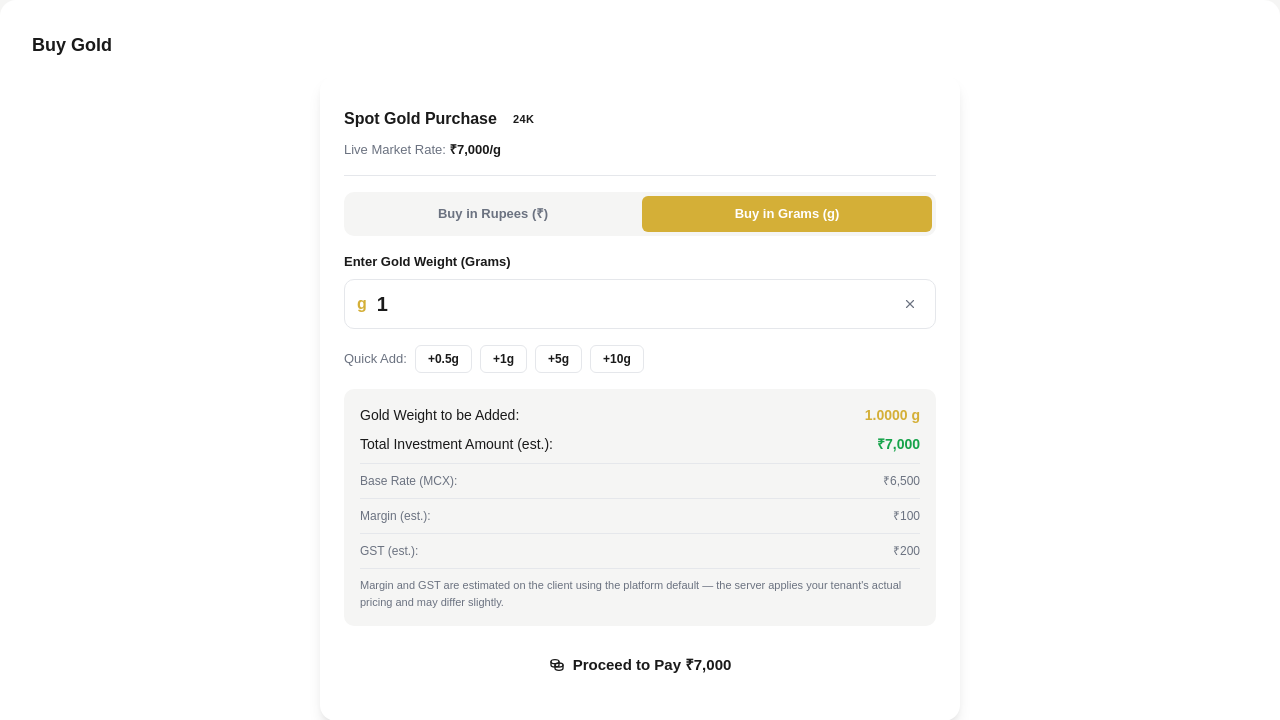
Test case: BuyGold › entering an amount › clears the weight
Click the button named "Clear gold weight": (910, 304) 897,296 -> 923,312
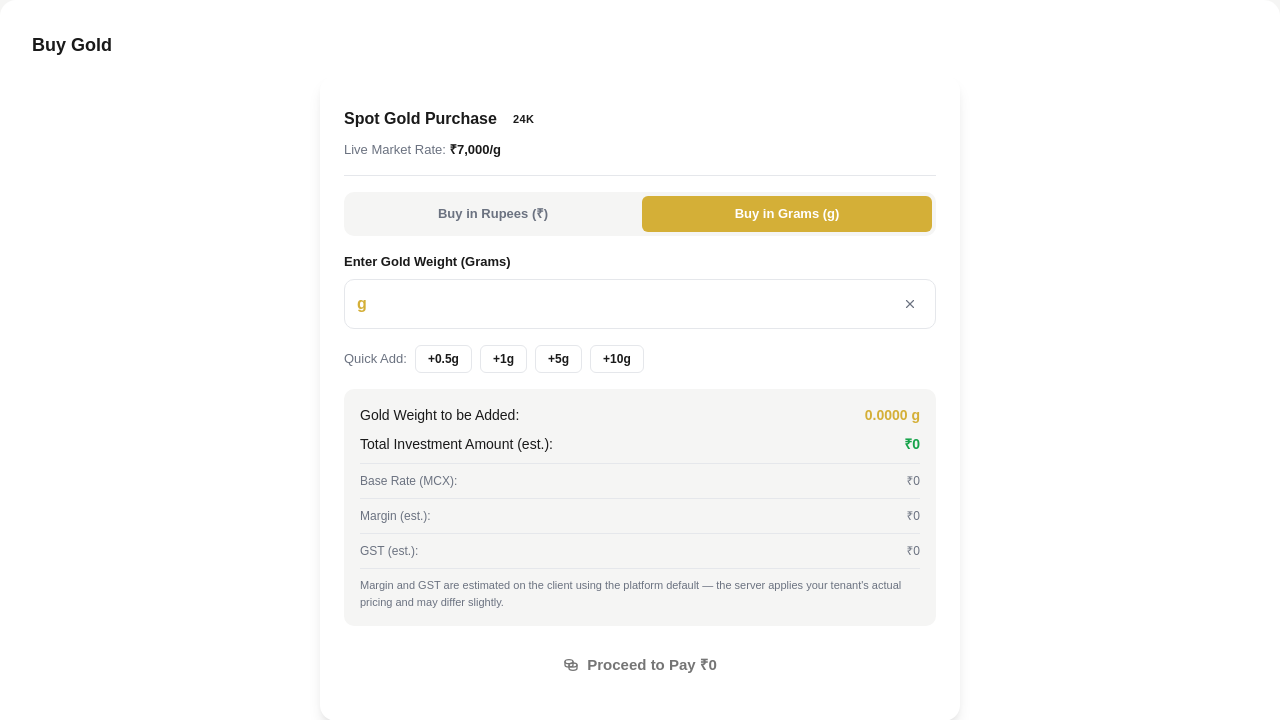
expect the field labelled "Enter Gold Weight (Grams)" is empty: met, box 375,288 -> 889,320
expect the button "Proceed to Pay ₹0" is disabled: met, box 344,642 -> 936,688
